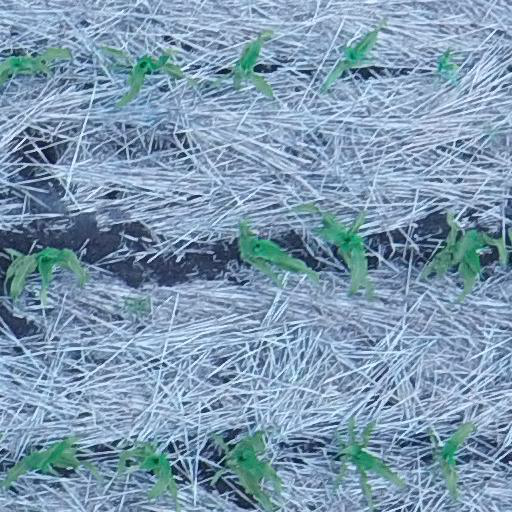planta: (290, 199, 379, 303), (417, 211, 511, 305), (235, 215, 325, 289), (106, 44, 201, 112), (4, 245, 91, 312), (321, 18, 387, 93), (423, 418, 478, 506), (229, 26, 276, 100)
